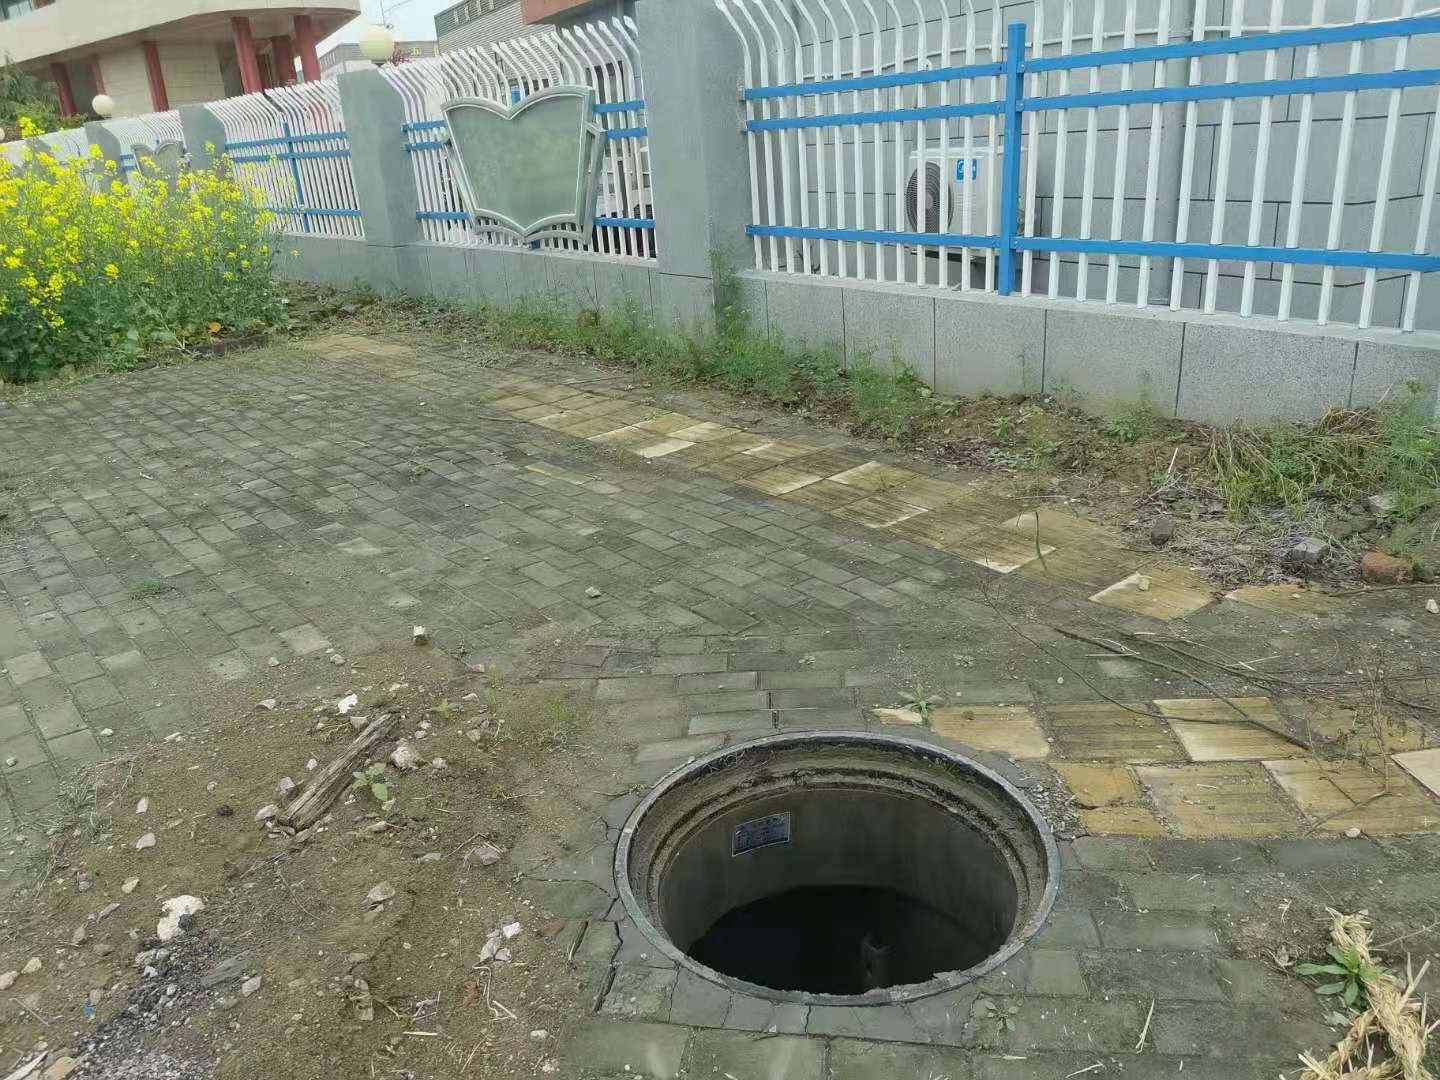lose: (616, 728, 1060, 1006)
